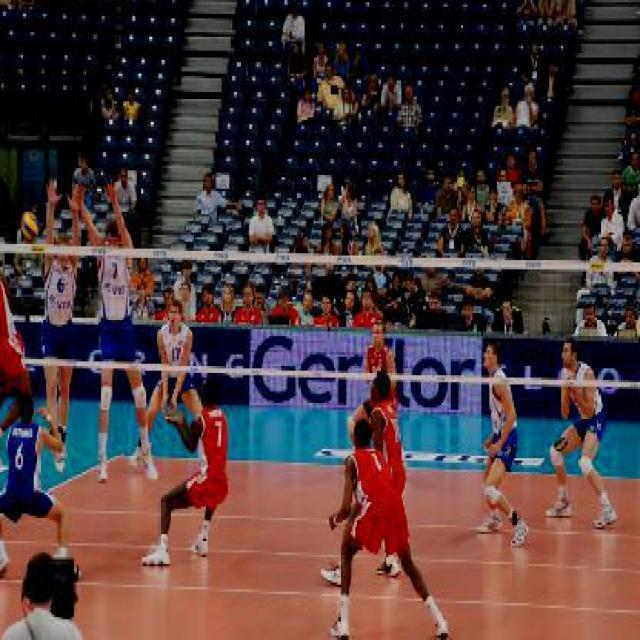volleyball: (22, 212, 38, 244)
